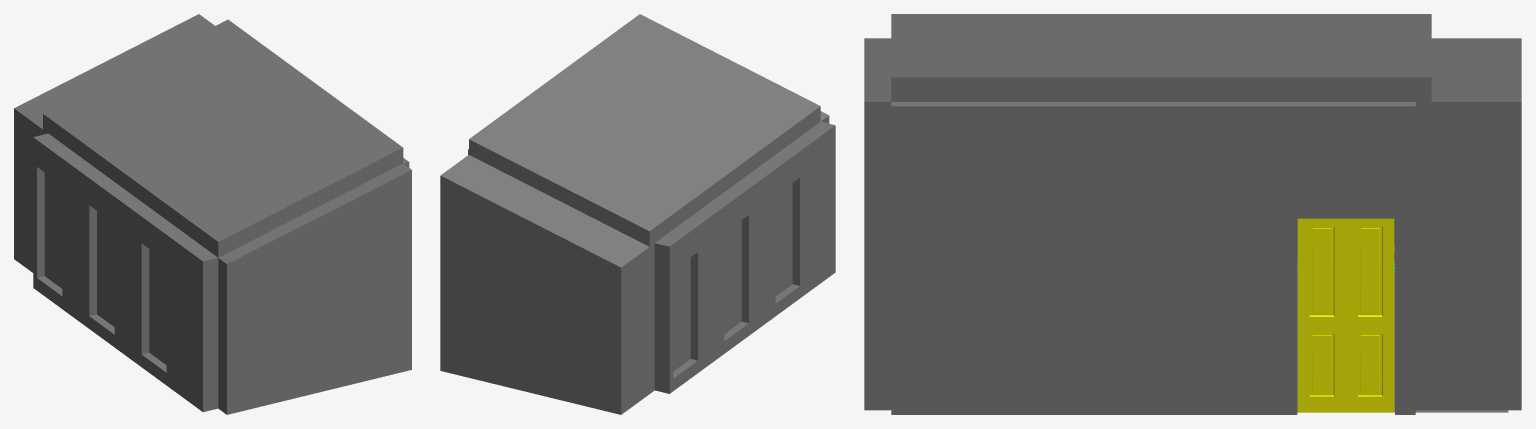
File: GuestBedRoom.obj
3 views of the same model, side by side, from view 1: azimuth 30°, elevation 25°; view 2: azimuth 150°, elevation 25°; view 3: azimuth 270°, elevation 25° (orthographic). The views are drawn at different scales.
Parts seen in each view (by area): view 1: pCube230 polySurface3, pCube230 polySurface2, pCube230 polySurface4, polySurface5 pCube230, pPlane4, pPlane3, pPlane2; view 2: pCube230 polySurface3, polySurface5 pCube230, pCube230 polySurface4, pPlane3, pPlane2, pPlane4; view 3: pCube230 polySurface1, pCube230 polySurface3, polySurface5 pCube230, polySurface6 pCube238, pCube230 polySurface2.
Boxes of the visible parts, bbox=[...] form: pCube230 polySurface3: bbox=[43, 19, 403, 257]; pCube230 polySurface2: bbox=[218, 163, 411, 414]; pCube230 polySurface4: bbox=[33, 133, 218, 412]; polySurface5 pCube230: bbox=[14, 14, 214, 272]; pPlane4: bbox=[44, 172, 62, 288]; pPlane3: bbox=[149, 249, 166, 364]; pPlane2: bbox=[97, 211, 114, 326]; pCube230 polySurface3: bbox=[469, 14, 820, 246]; polySurface5 pCube230: bbox=[440, 155, 654, 414]; pCube230 polySurface4: bbox=[654, 121, 835, 393]; pPlane3: bbox=[775, 183, 792, 296]; pPlane2: bbox=[724, 220, 741, 333]; pPlane4: bbox=[673, 258, 690, 371]; pCube230 polySurface1: bbox=[891, 102, 1415, 414]; pCube230 polySurface3: bbox=[891, 14, 1431, 101]; polySurface5 pCube230: bbox=[1415, 38, 1521, 410]; polySurface6 pCube238: bbox=[1297, 218, 1394, 412]; pCube230 polySurface2: bbox=[864, 38, 891, 410].
Size of the model in its own units: 136 by 137 by 243.
